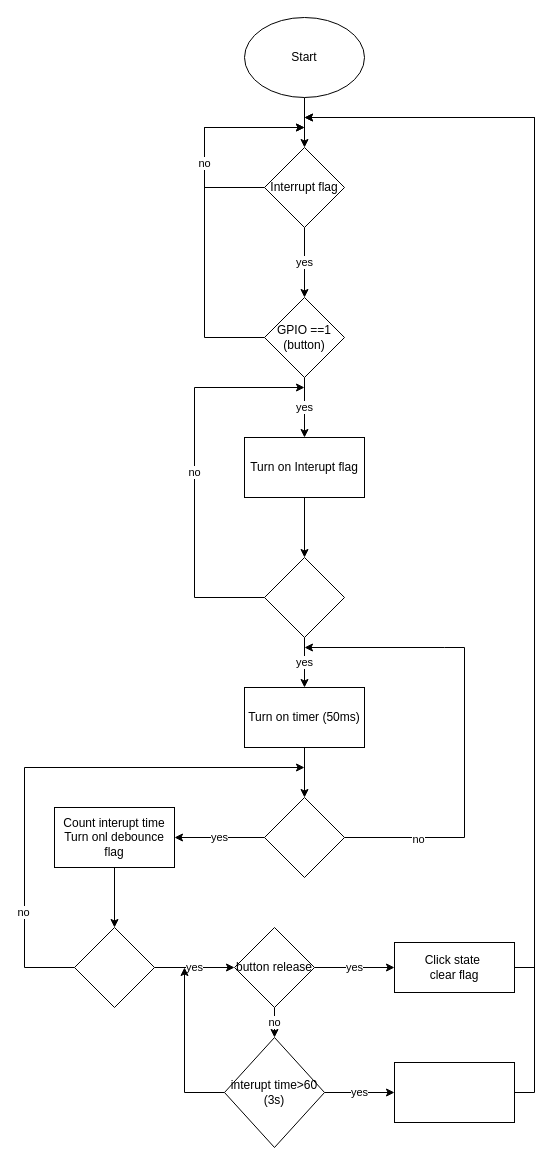
Some shapes in this 560 by 1165 pixel diagram are drawn without their labels. The centre of each missing label's shape, as x and y in pixels:
"button flag" belongs at point (304, 597).
"debounce time flag" belongs at point (114, 967).
"Hold state clear flag" belongs at point (454, 1092).
"Timer interrupt" belongs at point (304, 837).
